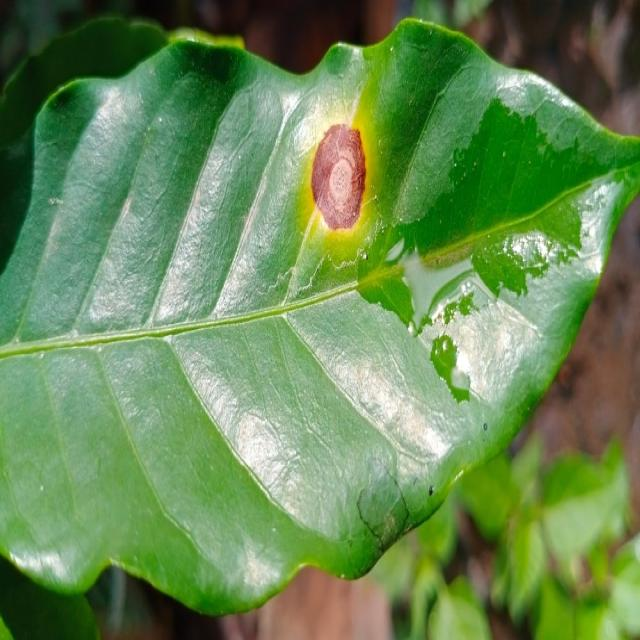Enfermedad-Mancha-de-hierro: (0, 19, 640, 619)
